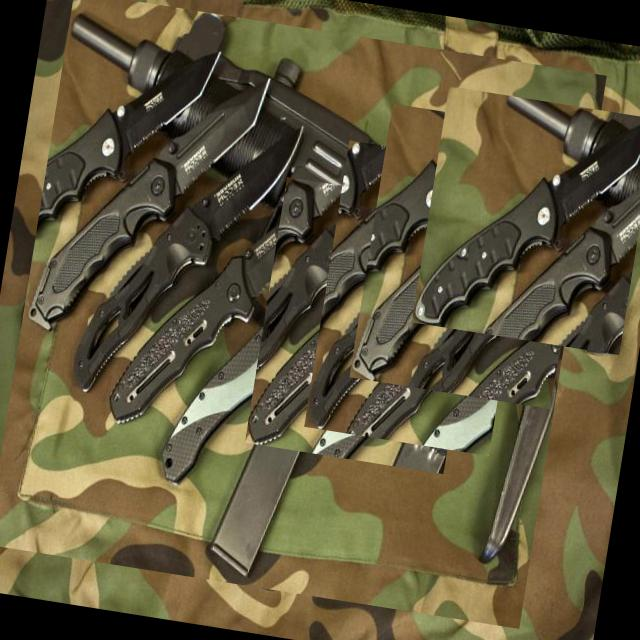Gun: (68, 12, 561, 584)
Knife: (351, 135, 592, 380), (308, 170, 534, 429), (247, 209, 485, 445), (413, 123, 640, 327), (232, 207, 381, 513)
